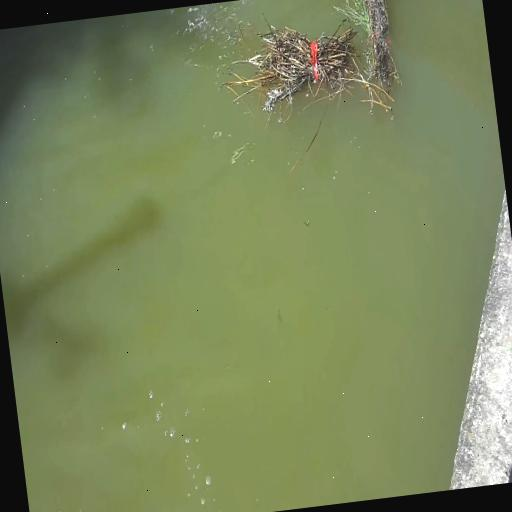twig: (211, 0, 365, 135), (329, 0, 415, 118)
